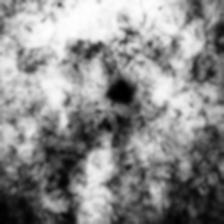Potentially Malignant Skin Tumors: (102, 72, 145, 130)
